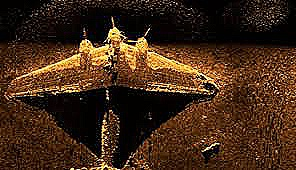aircraft: (3, 16, 219, 168)
